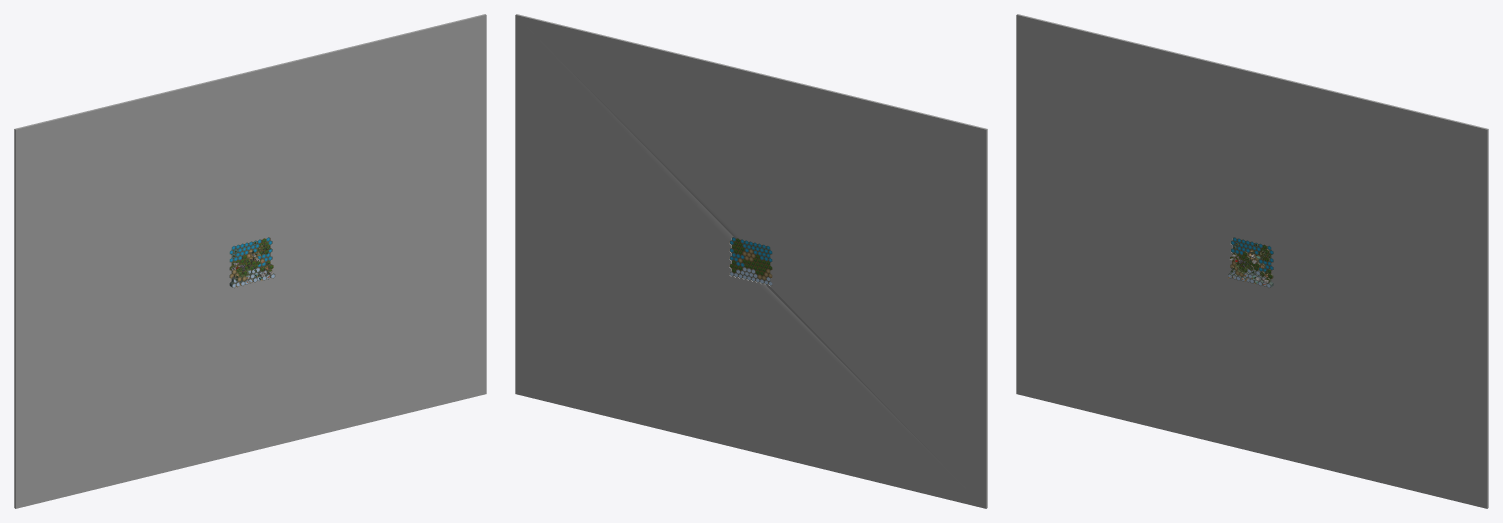
Rendered from map_mesh3.fbx.
3 views of the same model, side by side, from view 1: azimuth 30°, elevation 25°; view 2: azimuth 150°, elevation 25°; view 3: azimuth 330°, elevation 25° (orthographic).
Visible parts, largest first — view 1: pCylinder42, map; view 2: pCylinder42, map; view 3: pCylinder42, map.
Part boxes in pixels (x1=…): pCylinder42: x1=14, y1=14, x2=486, y2=508; map: x1=229, y1=237, x2=272, y2=288; pCylinder42: x1=515, y1=14, x2=987, y2=508; map: x1=729, y1=237, x2=772, y2=285; pCylinder42: x1=1016, y1=14, x2=1488, y2=508; map: x1=1228, y1=237, x2=1273, y2=281.
Size of the model in its own units: 189 by 146 by 4.58.
